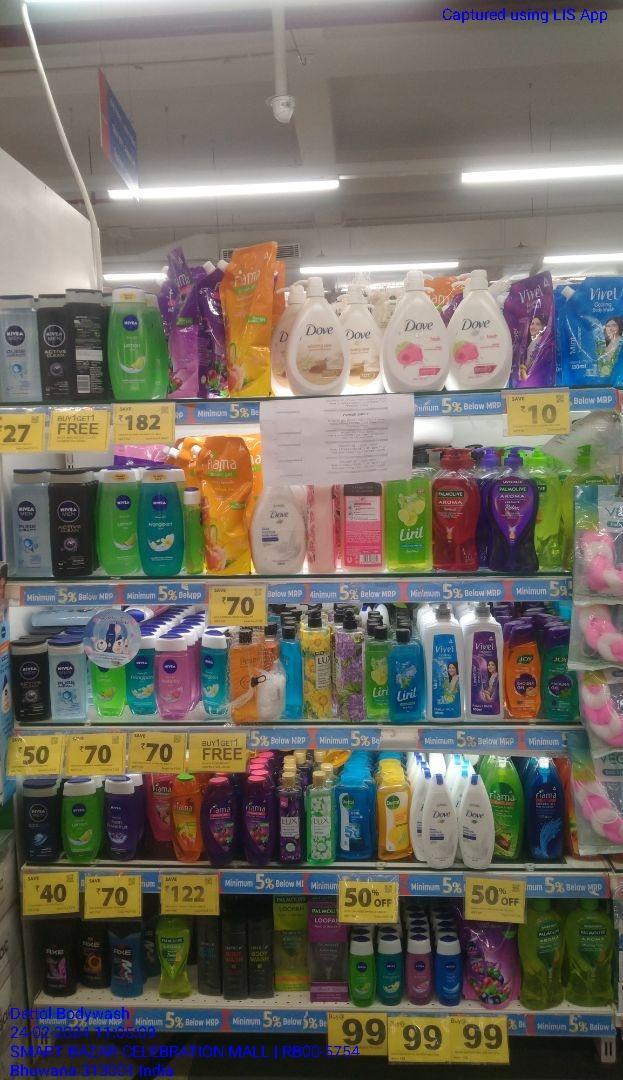Dettol_Bodywash_Cool: (338, 778, 374, 862)
Dettol_Bodywash_Refresh: (376, 774, 412, 860)
Dove_Deep_Moisture_Body_Wash_250ML: (462, 778, 495, 871), (424, 778, 456, 867)
Fiama_Shower_Gel_Peach_and_Avocado_250ML: (169, 779, 202, 862)
Joy_Shower_Gel_Mandarin_and_Lemongrass_250ML: (504, 630, 541, 719)
Joy_Shower_Gel_Mint_and_Eucalyptus_250ML: (544, 631, 578, 720)
Liril_Cooling_Mint_Body_Wash_250ML: (391, 633, 427, 722)
Lux_Black_Orchid_Scent_and_Juniper_Oil_Body_Wash_245ML: (279, 775, 303, 862)
Lux_Body_Wash_Skin_Detox_Freesia_Scent_and_Alove_Vera_245ML: (305, 772, 337, 865)
Nivea_Shower_Gel_Frangipani_and_Oil_250ML: (141, 472, 182, 577), (198, 635, 232, 716), (377, 939, 404, 1006)
Nivea_Shower_Gel_Fresh_Powerfruit_250ML: (105, 781, 139, 859)
Nivea_Shower_Gel_Lemon_and_Oil_250ML: (112, 289, 159, 402), (98, 470, 140, 577), (61, 782, 101, 859), (349, 936, 375, 1007)
Nivea_Shower_Gel_Waterlily_and_Oil_250ML: (156, 638, 188, 718), (408, 937, 432, 1007)
Palmolive_Aroma_Morning_Tonic_Shower_Gel_250ML: (155, 917, 194, 998)
